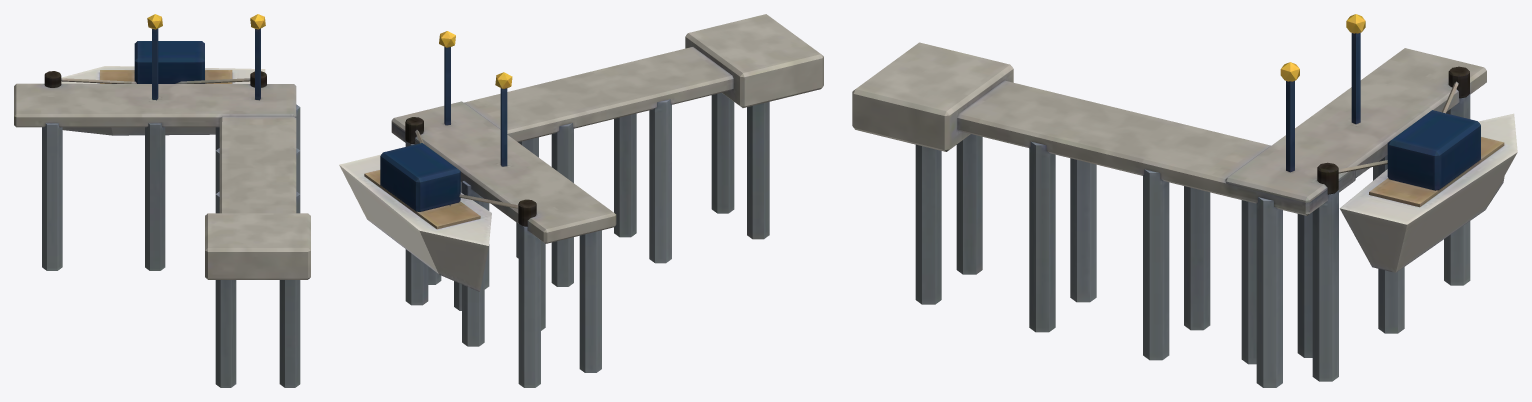
Rendered from harbor-pier-20.glb.
3 views of the same model, side by side, from view 1: azimuth 30°, elevation 25°; view 2: azimuth 150°, elevation 25°; view 3: azimuth 270°, elevation 25° (orthographic). The views are drawn at different scales.
Visible parts, largest first — view 1: harbor-pier-20; view 2: harbor-pier-20; view 3: harbor-pier-20.
Boxes of the visible parts, bbox=[...] form: harbor-pier-20: bbox=[14, 14, 310, 387]; harbor-pier-20: bbox=[339, 14, 823, 387]; harbor-pier-20: bbox=[852, 14, 1517, 387].
Size of the model in its own units: 0.9883 by 0.9 by 1.77.
Materials: 1 (1 with a texture image).
